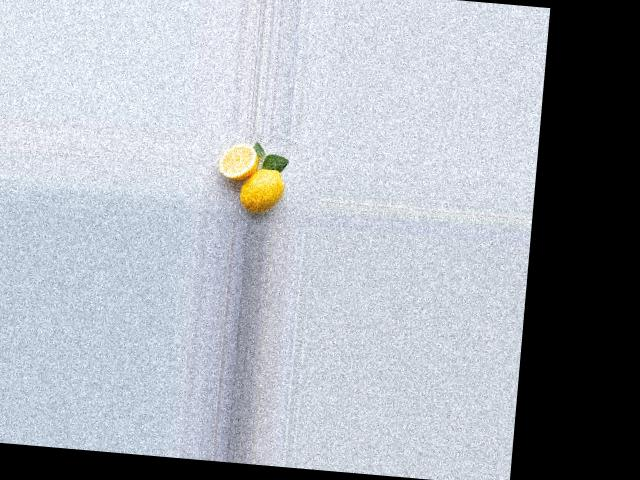lemon: (238, 163, 290, 216)
